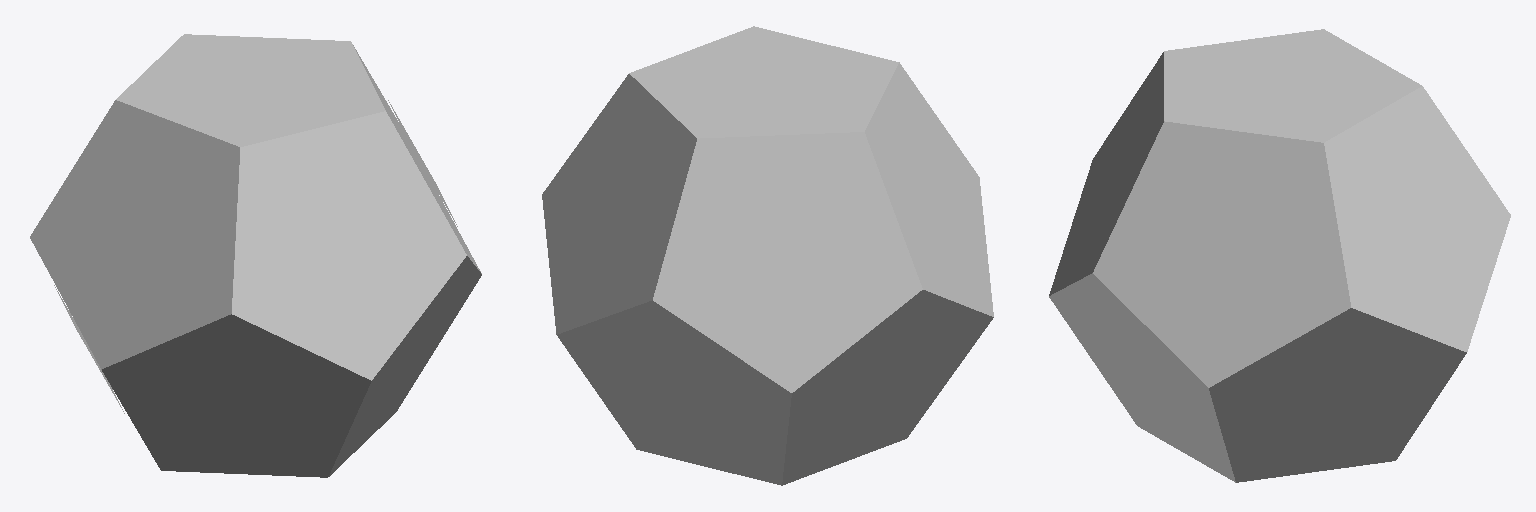
The model's file is Dodecahedron.obj.
3 renders of one model, left to right at view 1: azimuth 30°, elevation 25°; view 2: azimuth 150°, elevation 25°; view 3: azimuth 270°, elevation 25°, orthographic.
Visible parts, largest first — view 1: Dodecahedron, AR-Markers; view 2: Dodecahedron, AR-Markers; view 3: Dodecahedron, AR-Markers.
Boxes of the visible parts, x1=… form: Dodecahedron: x1=30, y1=34, x2=481, y2=477; AR-Markers: x1=54, y1=57, x2=457, y2=443; Dodecahedron: x1=542, y1=26, x2=993, y2=485; AR-Markers: x1=566, y1=51, x2=971, y2=444; Dodecahedron: x1=1049, y1=29, x2=1510, y2=482; AR-Markers: x1=1083, y1=49, x2=1471, y2=444.
Size of the model in its own units: 0.5136 by 0.4463 by 0.5394.